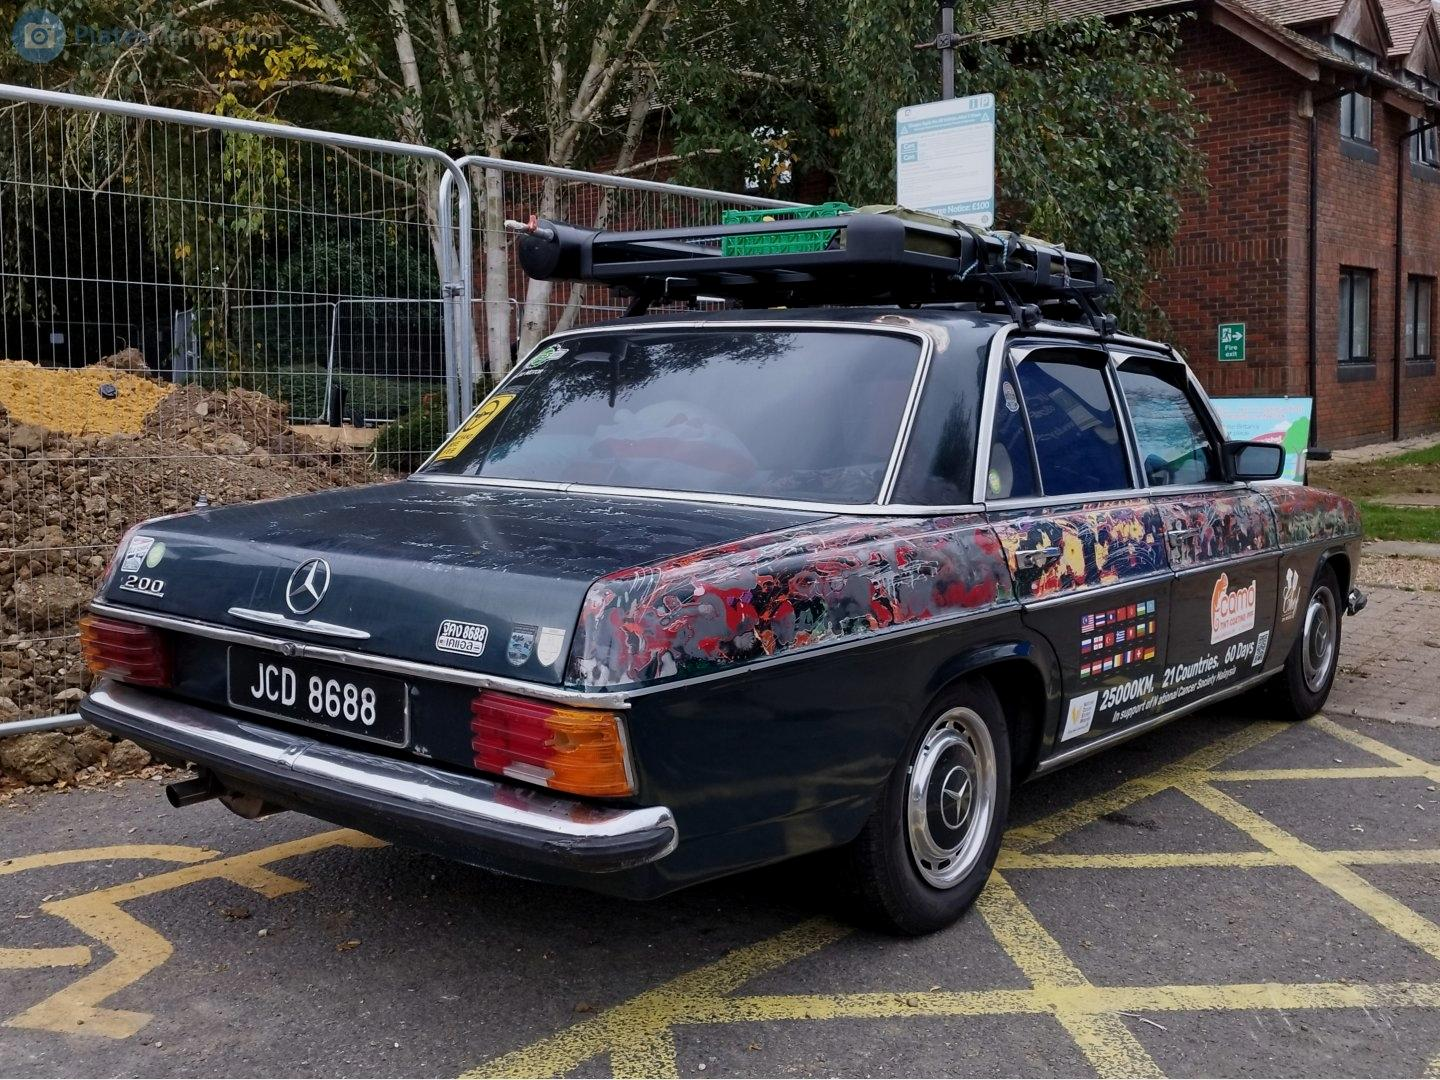License Plate: (229, 647, 410, 747)
